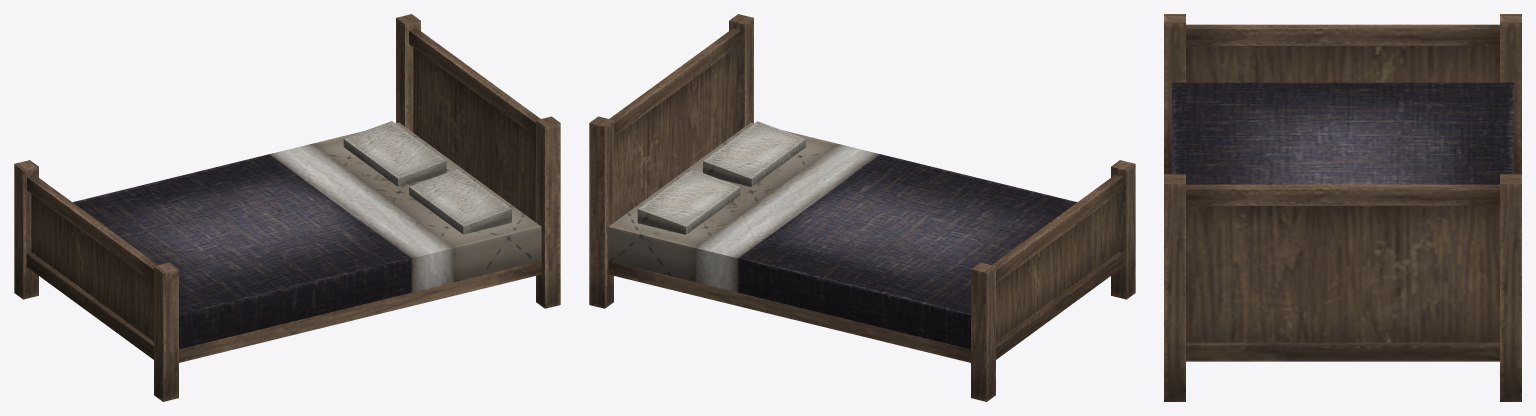
Rendered from Bed_2.fbx.
The picture shows the model from 3 angles, left to right: view 1: azimuth 30°, elevation 25°; view 2: azimuth 150°, elevation 25°; view 3: azimuth 270°, elevation 25°; orthographic projection. The views are drawn at different scales.
Visible parts, largest first — view 1: Bed_2; view 2: Bed_2; view 3: Bed_2.
Boxes of the visible parts, x1,y1,x2,y2 form: Bed_2: [14, 14, 560, 401]; Bed_2: [589, 14, 1135, 401]; Bed_2: [1164, 14, 1521, 401].
Bounding box in the file's own units: 218 × 95.13 × 141.
